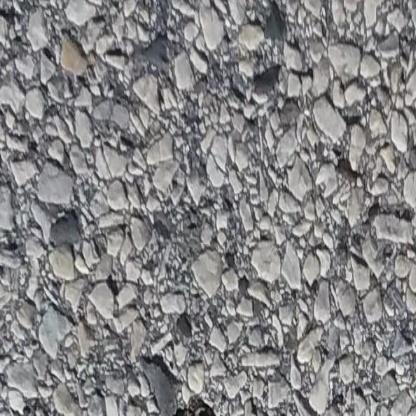Cracks: (137, 387, 246, 416)
